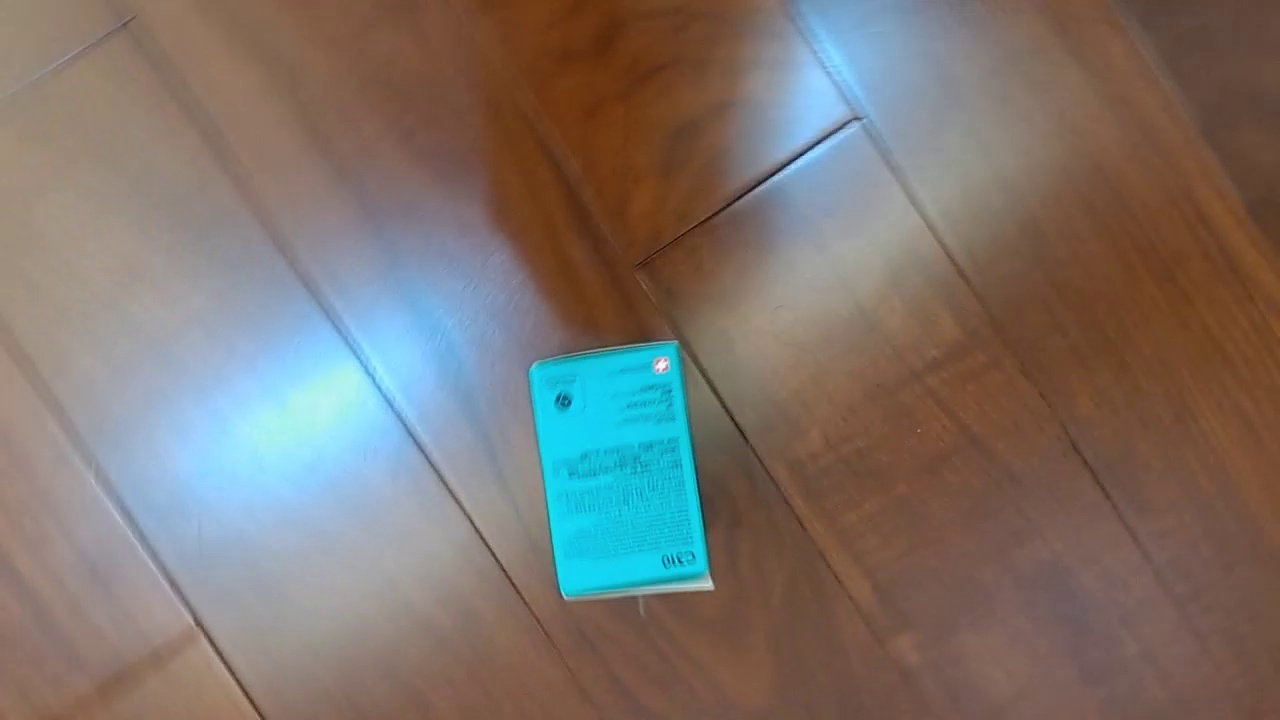webcam: (527, 339, 716, 603)
